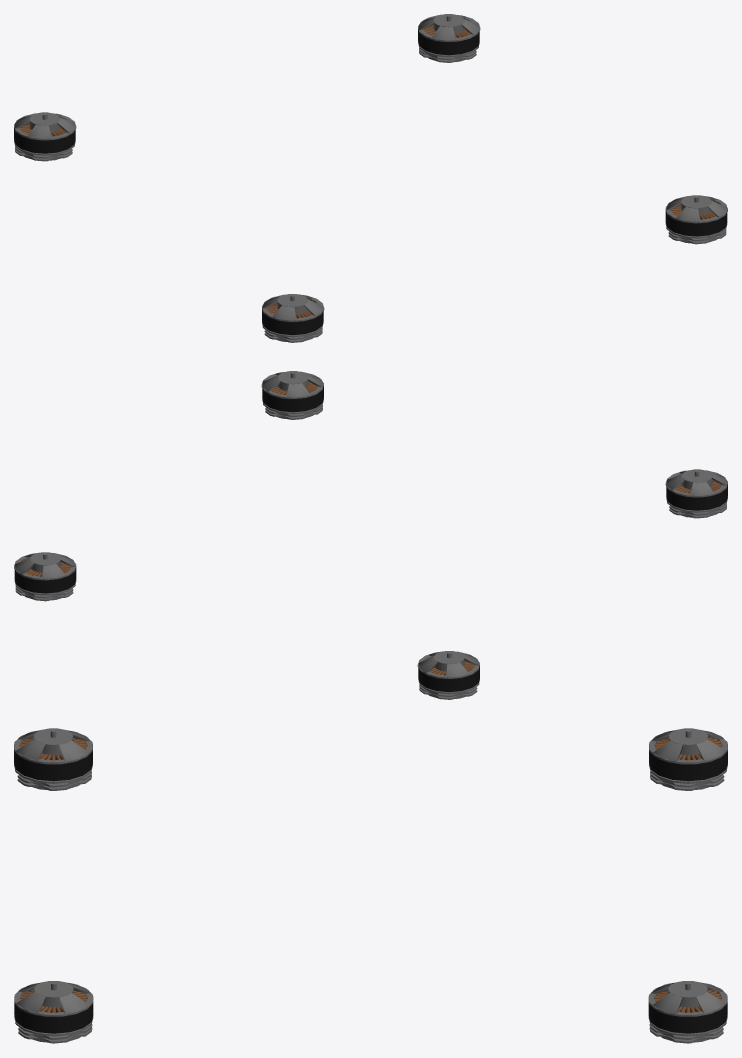
Rendered from motor3.dae.
3 views of the same model, one above another, from view 1: azimuth 30°, elevation 25°; view 2: azimuth 150°, elevation 25°; view 3: azimuth 270°, elevation 25° (orthographic). The views are drawn at different scales.
Visible parts, largest first — view 1: mitte (×2), oben_dünn (×2), oben_Ring.1 (×2), oben_Ring.2 (×2), oben_Ring (×2); view 2: mitte (×2), oben_dünn (×2), oben_Ring.1 (×2), oben_Ring.2 (×2), oben_Ring (×2); view 3: mitte (×2), oben_dünn (×2), oben_Ring (×2), oben_Ring.3 (×2), oben_Ring.1 (×2), unten_dick.2 (×2).
Part boxes in pixels (bbox=[...]): mitte (×2): bbox=[14, 29, 727, 335]; oben_dünn (×2): bbox=[29, 14, 711, 314]; oben_Ring.1 (×2): bbox=[19, 15, 727, 321]; oben_Ring.2 (×2): bbox=[15, 15, 722, 321]; oben_Ring (×2): bbox=[14, 15, 727, 321]; mitte (×2): bbox=[14, 386, 727, 692]; oben_dünn (×2): bbox=[30, 371, 712, 671]; oben_Ring.1 (×2): bbox=[14, 372, 727, 678]; oben_Ring.2 (×2): bbox=[15, 372, 726, 678]; oben_Ring (×2): bbox=[14, 372, 727, 678]; mitte (×2): bbox=[14, 746, 727, 1033]; oben_dünn (×2): bbox=[33, 728, 708, 1007]; oben_Ring (×2): bbox=[14, 730, 727, 1014]; oben_Ring.3 (×2): bbox=[14, 731, 727, 1016]; oben_Ring.1 (×2): bbox=[14, 730, 727, 1016]; unten_dick.2 (×2): bbox=[14, 763, 727, 1036].
Bounding box in the file's own units: 681 × 50.83 × 719.
